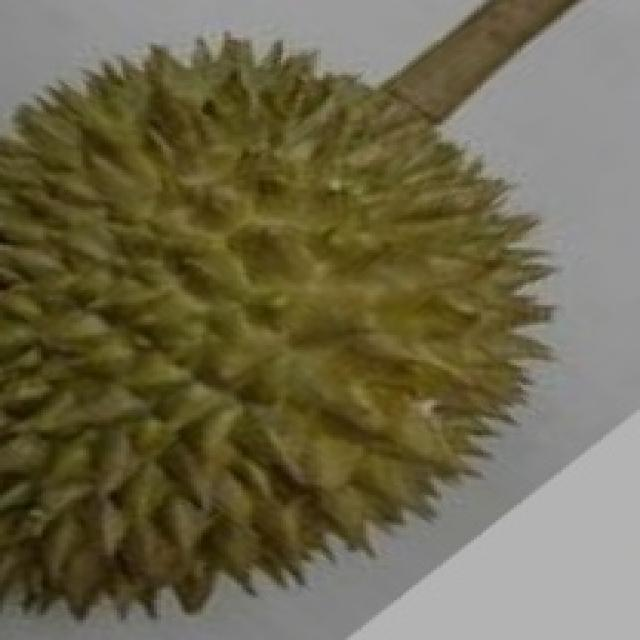fruit: (0, 257, 382, 635)
